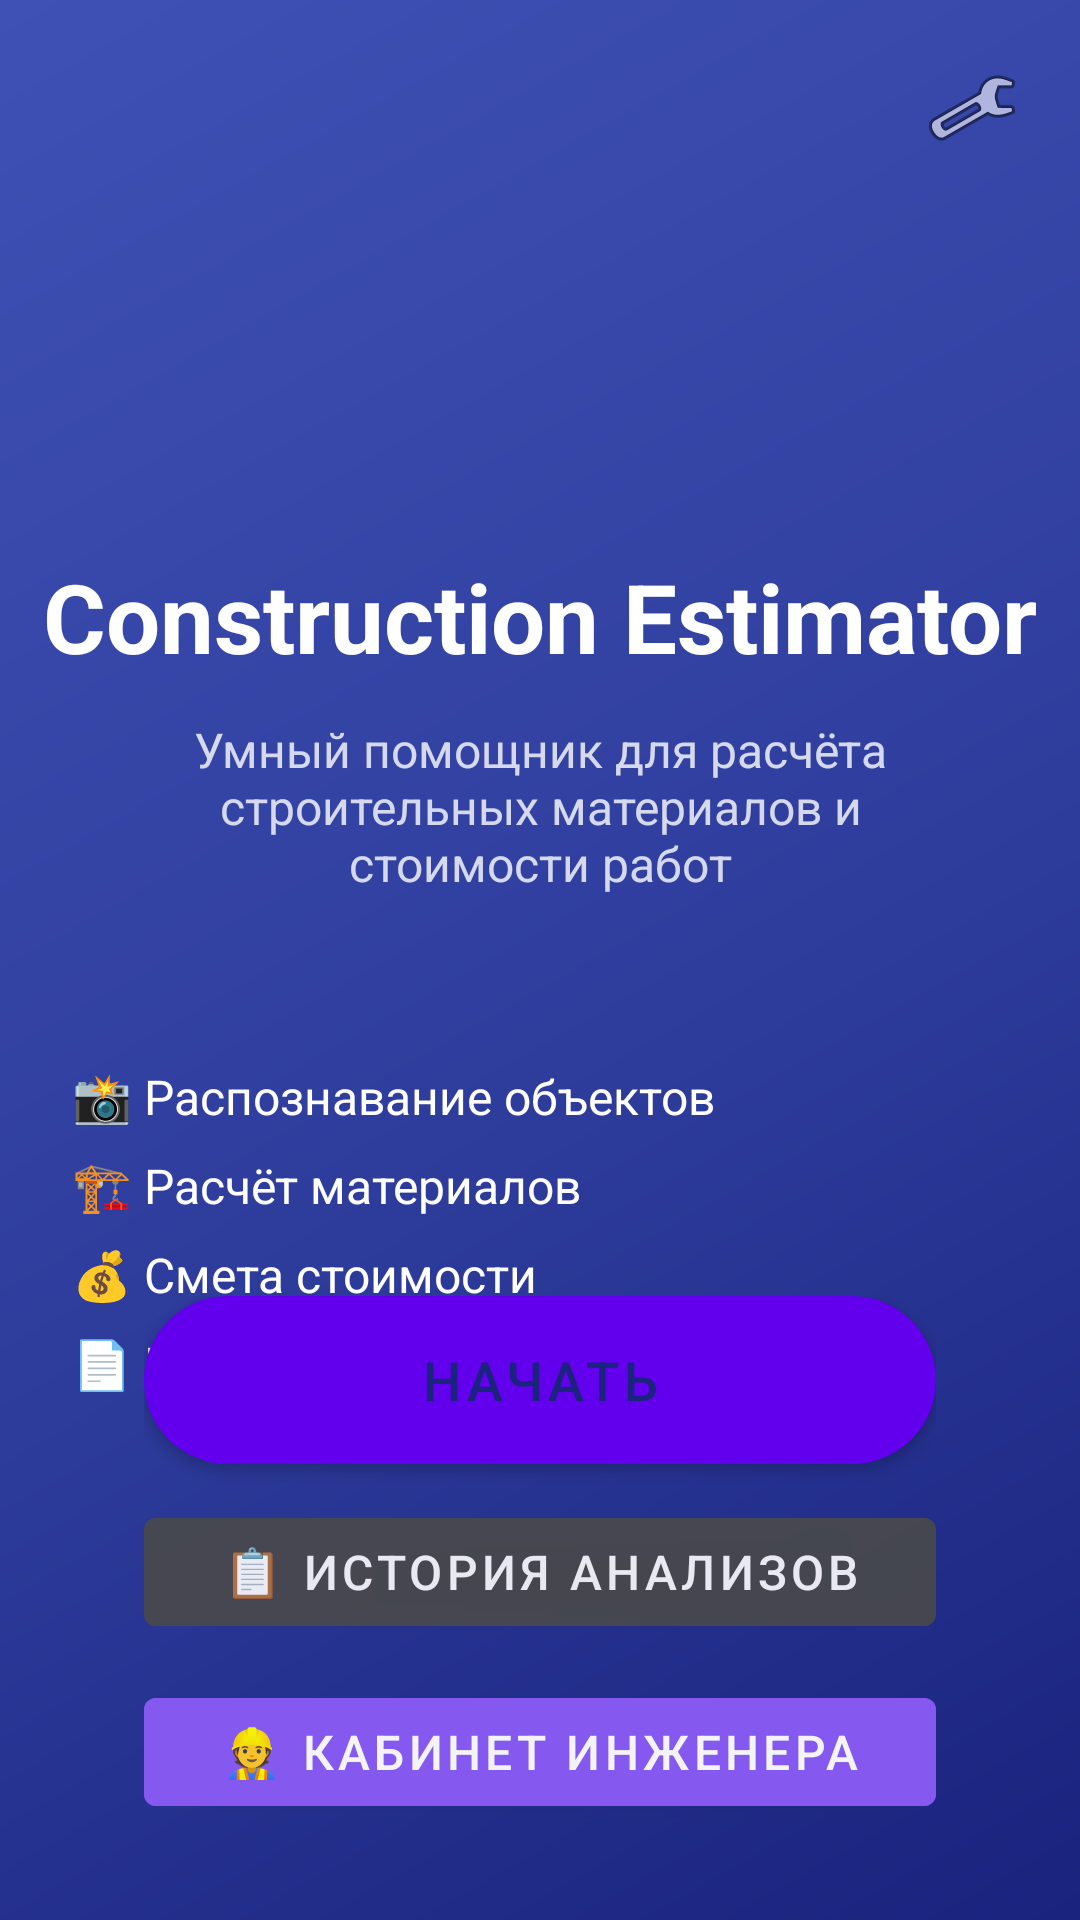

Locate icon controls on the screen. Image size 1080 x 1920, boxes as (left=x1, top=y1, right=x2, bottom=y2).
Настройки: (left=929, top=75, right=1015, bottom=141)
